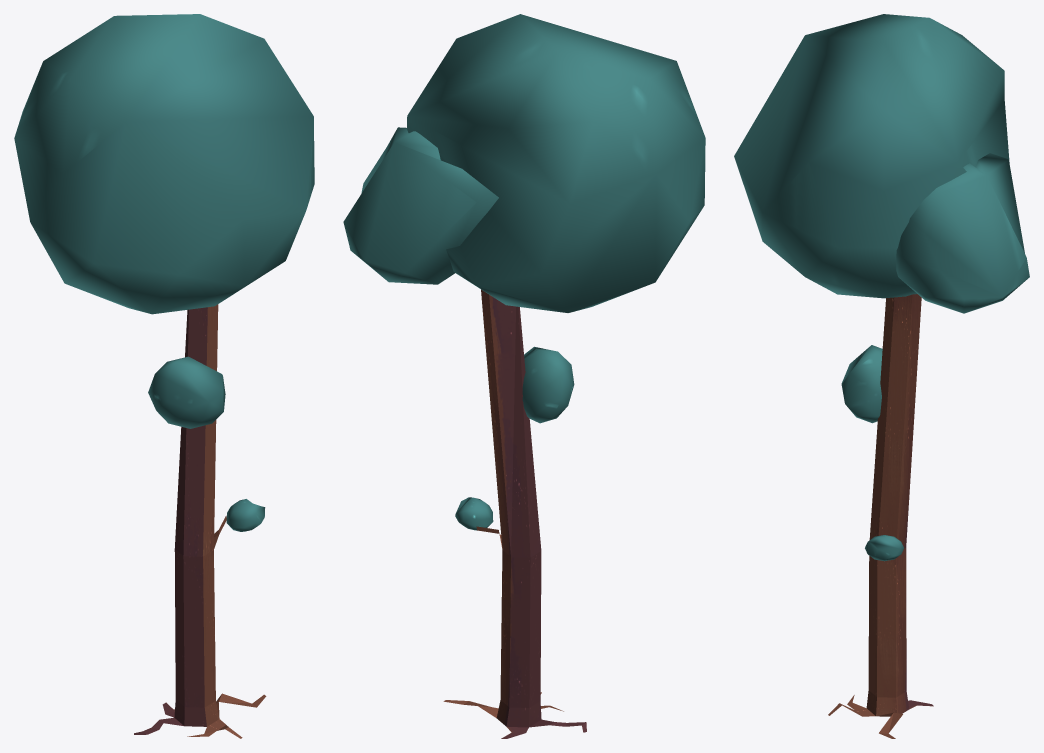
File: tree3.glb
3 views of the same model, side by side, from view 1: azimuth 30°, elevation 25°; view 2: azimuth 150°, elevation 25°; view 3: azimuth 270°, elevation 25° (orthographic). The views are drawn at different scales.
Parts seen in each view (by area): view 1: tree1; view 2: tree1; view 3: tree1.
Boxes of the visible parts, bbox=[...] form: tree1: bbox=[14, 14, 314, 738]; tree1: bbox=[343, 14, 705, 738]; tree1: bbox=[734, 14, 1029, 738].
Size of the model in its own units: 43.5 by 98.58 by 39.58.
Materials: 1 (1 with a texture image).
